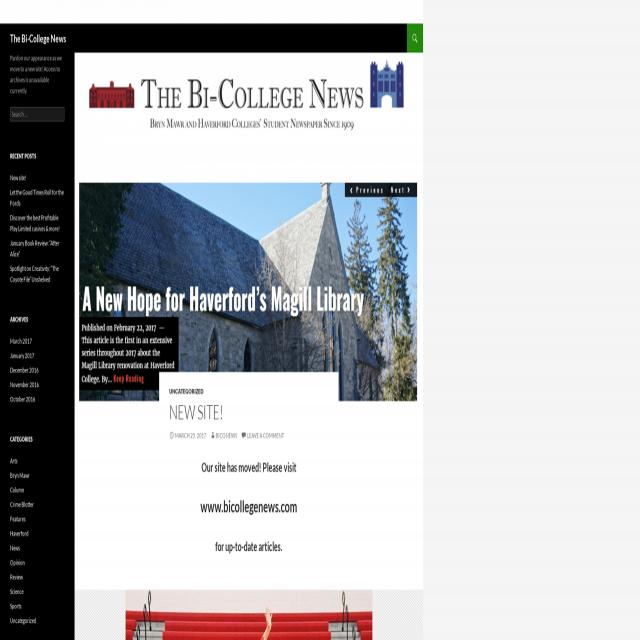button: (75, 53, 423, 401), (82, 59, 412, 144), (125, 590, 372, 640), (10, 24, 66, 53), (407, 23, 423, 53)
field: (10, 107, 64, 122)
